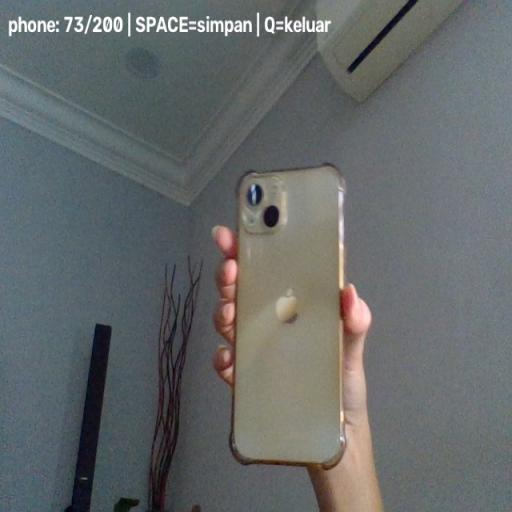Phone: (229, 163, 348, 472)
